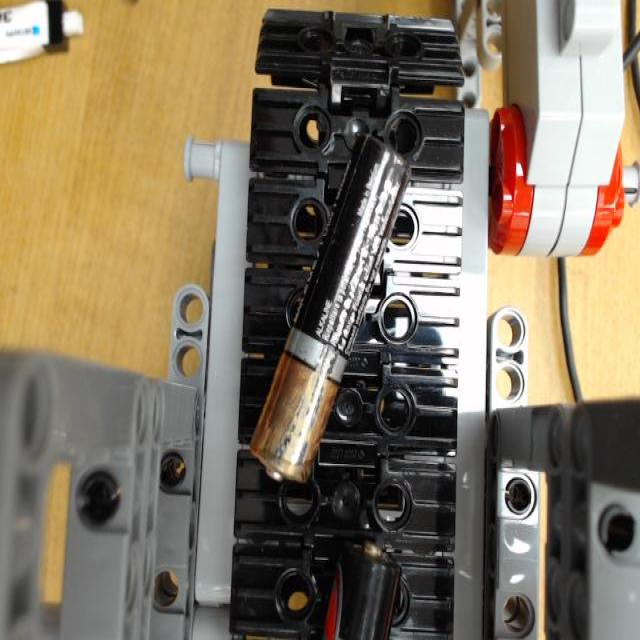AAA: (253, 130, 406, 473), (54, 95, 192, 301), (325, 552, 403, 640)
